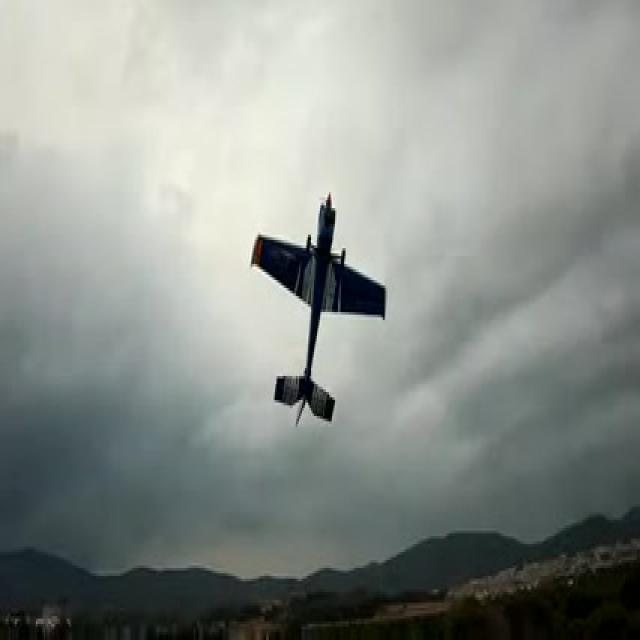iha: (251, 190, 384, 429)
